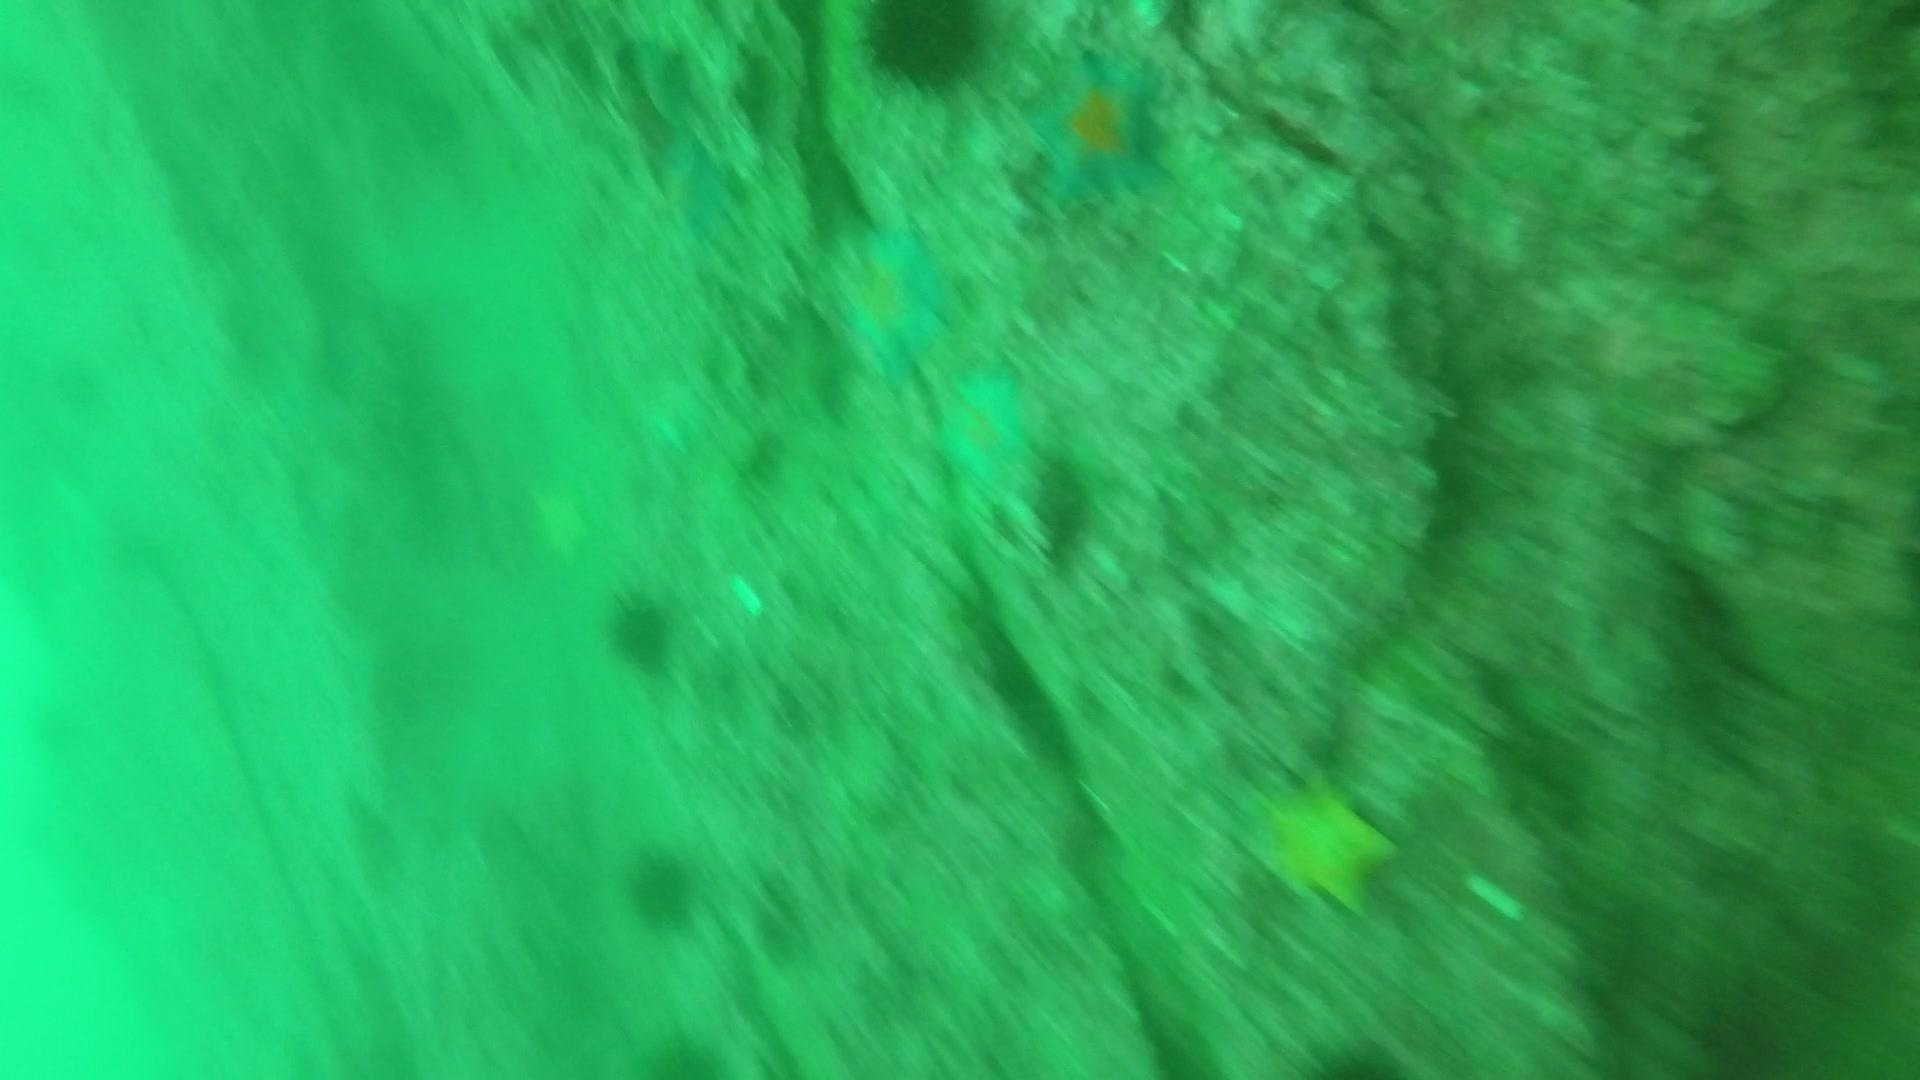echinus: (853, 3, 1004, 98), (1021, 447, 1102, 567), (620, 843, 704, 932), (600, 585, 683, 676)
starfish: (1019, 47, 1178, 214), (1237, 767, 1404, 923), (825, 215, 963, 390), (923, 359, 1048, 498), (649, 128, 752, 251), (626, 357, 728, 465)
